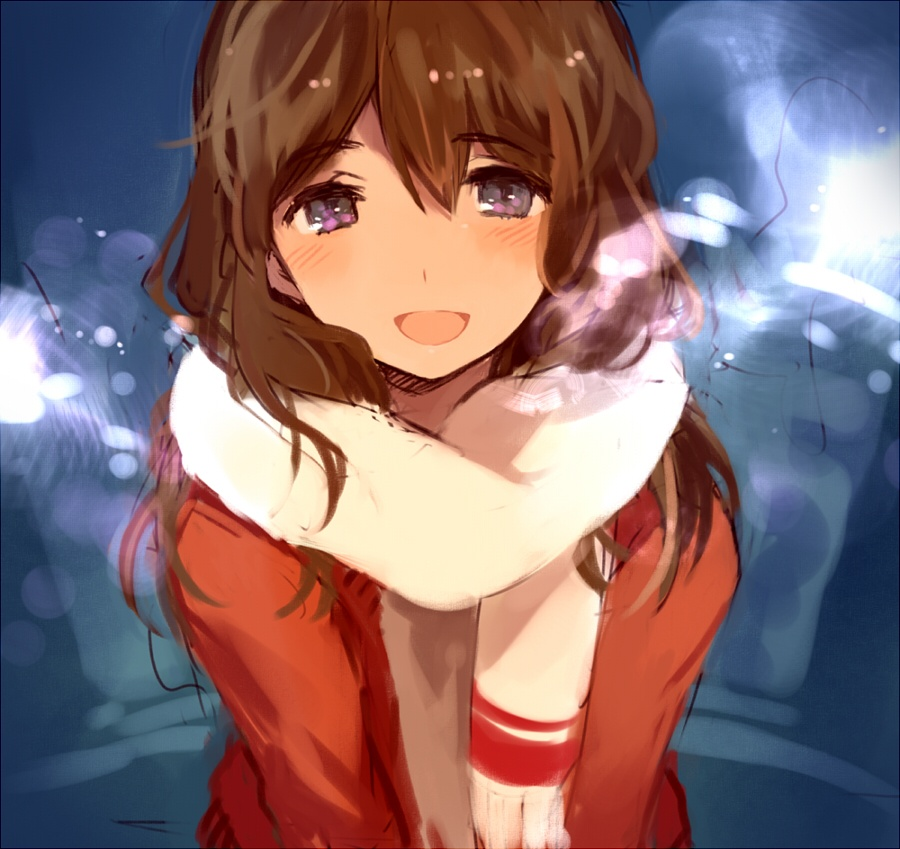纸片人正脸: (179, 10, 642, 393)
